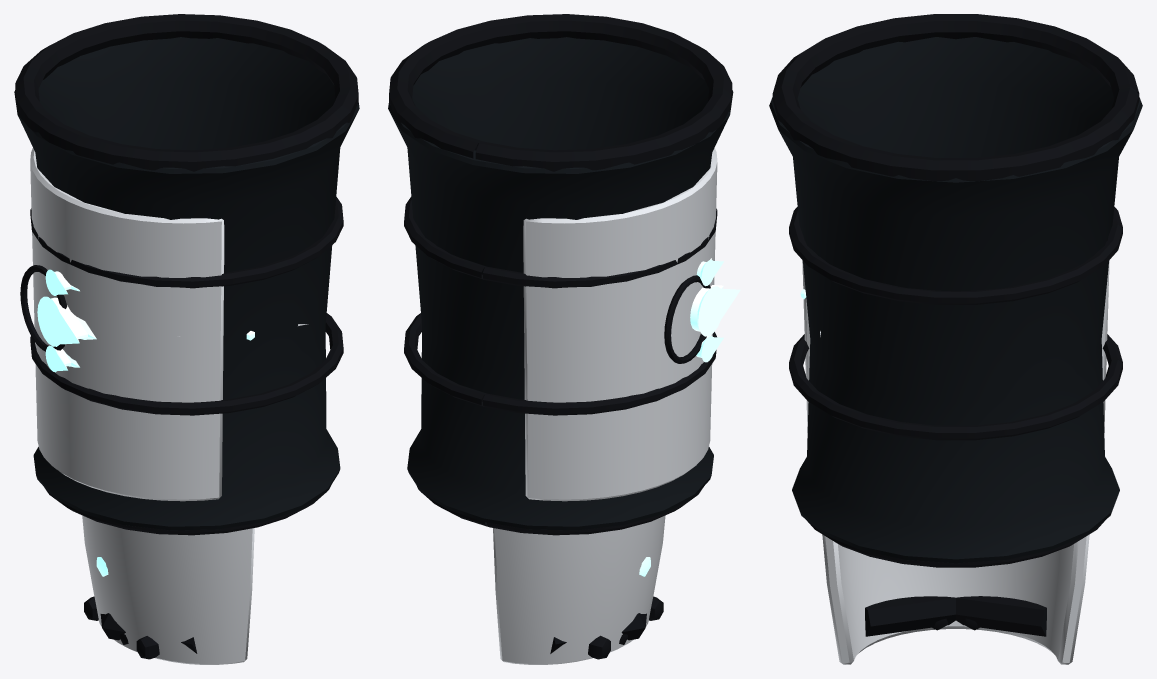
File: esc_last_breath_gloves_R.glb
3 renders of one model, left to right at view 1: azimuth 30°, elevation 25°; view 2: azimuth 150°, elevation 25°; view 3: azimuth 270°, elevation 25°, orthographic. The views are drawn at different scales.
Visible parts, largest first — view 1: esc_last_breath_gloves, AT_hand_R; view 2: esc_last_breath_gloves, AT_hand_R; view 3: esc_last_breath_gloves, AT_hand_R.
Part boxes in pixels (x1,y1,x2,y2): esc_last_breath_gloves: [14, 14, 359, 535]; AT_hand_R: [82, 515, 254, 664]; esc_last_breath_gloves: [388, 14, 740, 535]; AT_hand_R: [493, 515, 665, 664]; esc_last_breath_gloves: [769, 14, 1142, 567]; AT_hand_R: [822, 534, 1089, 664].
Bounding box in the file's own units: 0.1971 × 0.3408 × 0.2004.
